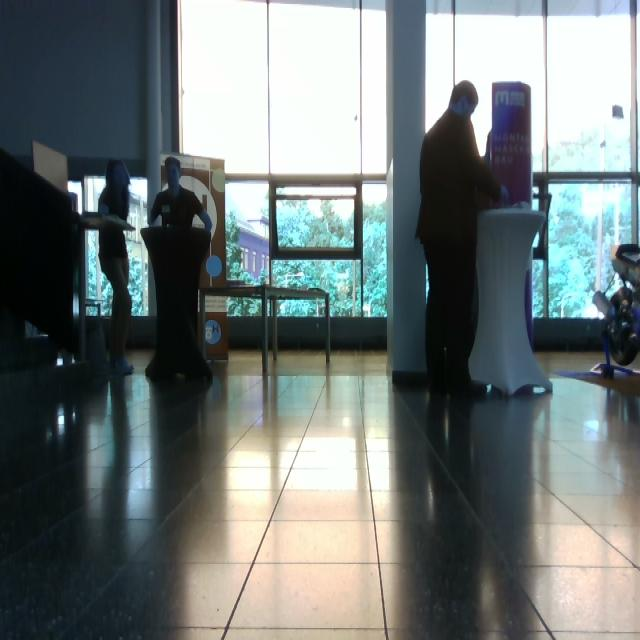light bulb: (592, 290, 615, 324), (199, 209, 213, 232), (612, 105, 624, 120)
person: (415, 81, 502, 398), (145, 157, 214, 384), (97, 160, 136, 376)
pillar: (386, 1, 428, 382)
table: (467, 205, 556, 401), (198, 281, 269, 376), (264, 284, 334, 372)
tiled floor: (2, 347, 639, 639)
window: (177, 1, 390, 321), (83, 174, 149, 317)
